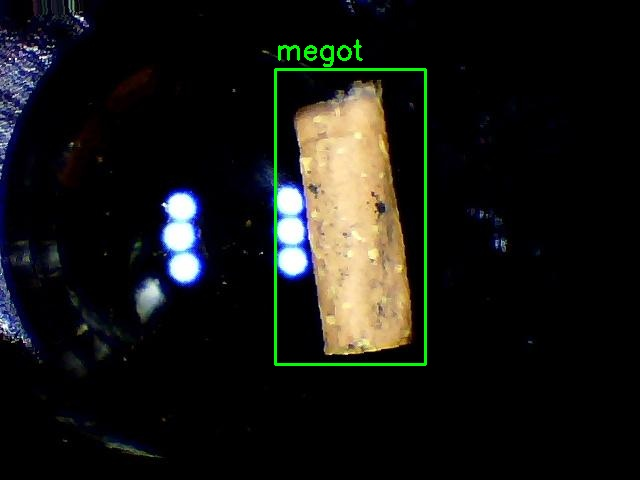megot: (275, 69, 425, 364)
